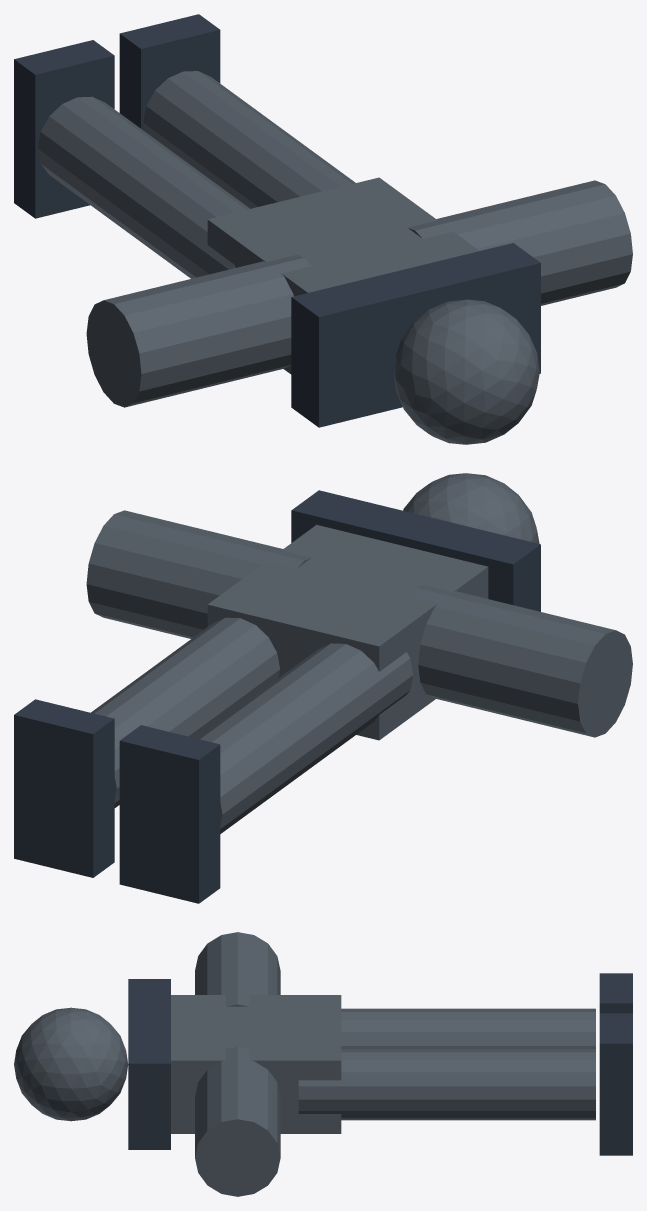
File: 01-guardiao-humano.glb
3 views of the same model, one above another, from view 1: azimuth 30°, elevation 25°; view 2: azimuth 150°, elevation 25°; view 3: azimuth 270°, elevation 25° (orthographic). The views are drawn at different scales.
Parts seen in each view (by area): view 1: part_005, part_006, part_002, part_004, part_008, part_003, part_007, part_000, part_001; view 2: part_004, part_006, part_002, part_000, part_001, part_007, part_003, part_005, part_008; view 3: part_003, part_004, part_007, part_002, part_008, part_005, part_006, part_001, part_000.
Part boxes in pixels (x1=…): part_005: x1=291, y1=243, x2=540, y2=427; part_006: x1=86, y1=255, x2=311, y2=407; part_002: x1=37, y1=96, x2=249, y2=278; part_004: x1=207, y1=177, x2=479, y2=374; part_008: x1=393, y1=299, x2=539, y2=444; part_003: x1=143, y1=71, x2=355, y2=208; part_007: x1=408, y1=180, x2=632, y2=305; part_000: x1=14, y1=40, x2=114, y2=218; part_001: x1=119, y1=14, x2=220, y2=131; part_004: x1=207, y1=524, x2=488, y2=740; part_006: x1=408, y1=585, x2=632, y2=737; part_002: x1=196, y1=643, x2=413, y2=833; part_000: x1=119, y1=725, x2=220, y2=903; part_001: x1=14, y1=699, x2=114, y2=877; part_007: x1=86, y1=510, x2=311, y2=638; part_003: x1=91, y1=617, x2=279, y2=807; part_005: x1=291, y1=490, x2=540, y2=611; part_008: x1=403, y1=473, x2=539, y2=543; part_003: x1=298, y1=1049, x2=595, y2=1120; part_004: x1=171, y1=995, x2=341, y2=1133; part_007: x1=195, y1=1047, x2=280, y2=1196; part_002: x1=341, y1=1008, x2=595, y2=1048; part_008: x1=14, y1=1007, x2=128, y2=1121; part_005: x1=128, y1=979, x2=170, y2=1149; part_006: x1=195, y1=932, x2=280, y2=1006; part_001: x1=599, y1=1013, x2=632, y2=1155; part_000: x1=599, y1=973, x2=632, y2=1013.
Bounding box in the file's own units: 1.86 × 0.52 × 2.6.
